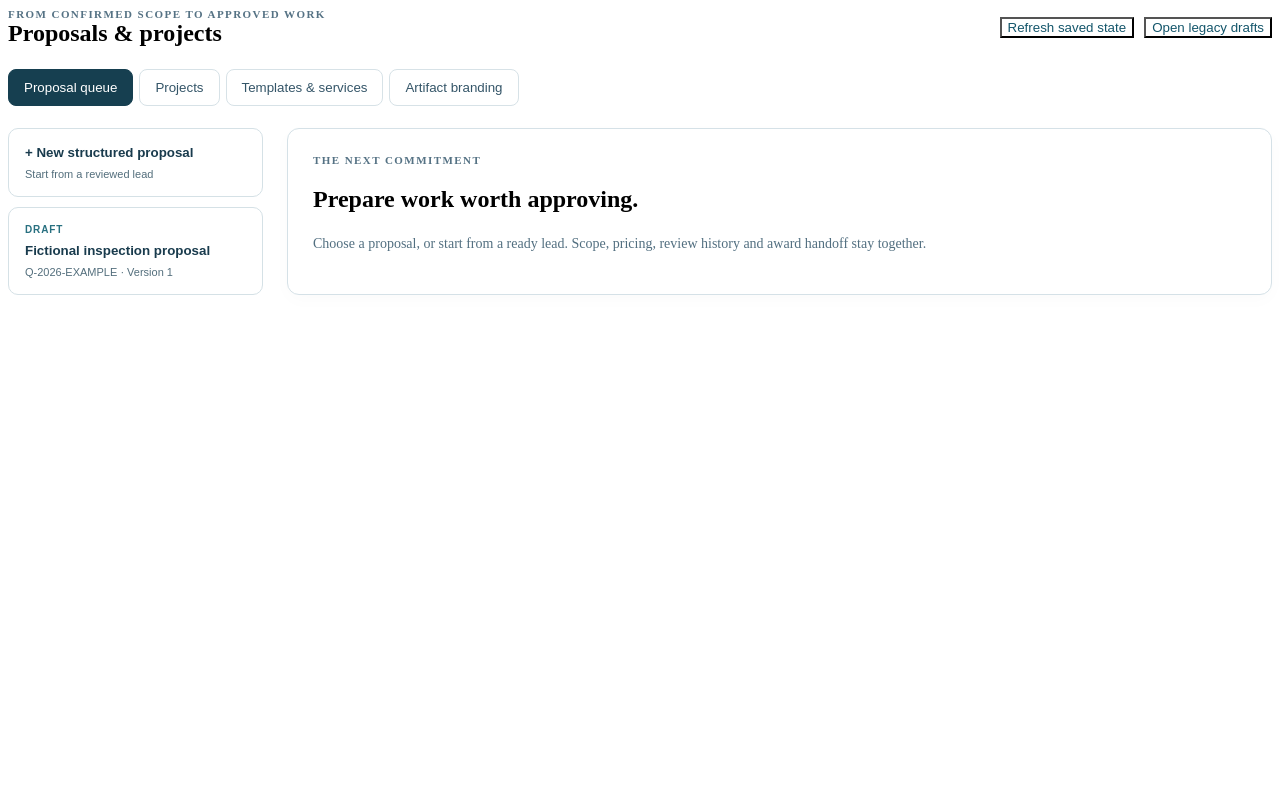
Test: structured commercial workspace › keeps draft preview clearly unapproved and offers no final PDF action
Check: the heading "Proposals & projects" is shown, box [8,20,222,46]
Check: the button "Refresh saved state" is enabled, box [1000,17,1134,38]
Click the button "Fictional inspection proposal".
click(136, 251)  # box [8,207,263,295]
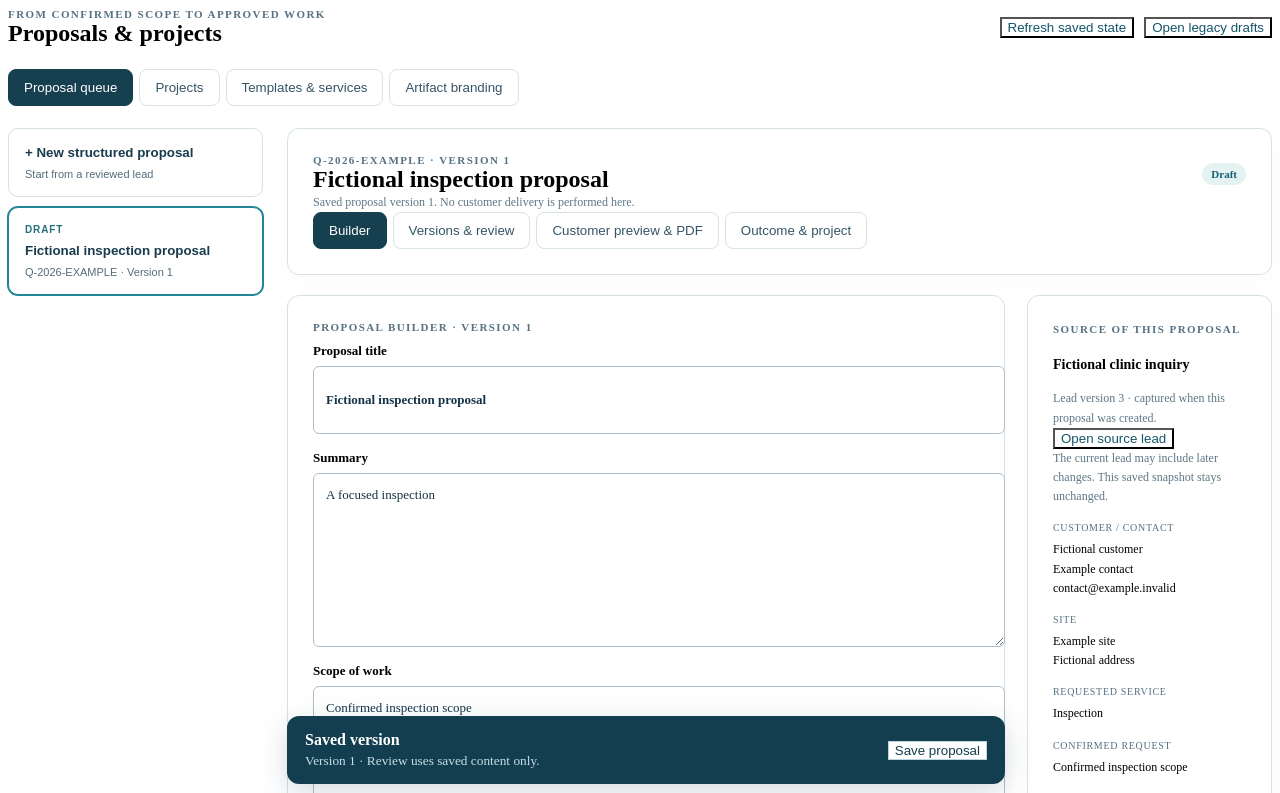
Check: the button "Refresh saved state" is enabled, box [1000,17,1134,38]
Check: the field labelled "Proposal title" is shown, box [313,366,1005,434]
Click the button "Customer preview & PDF".
click(628, 231)  # box [536,212,719,249]
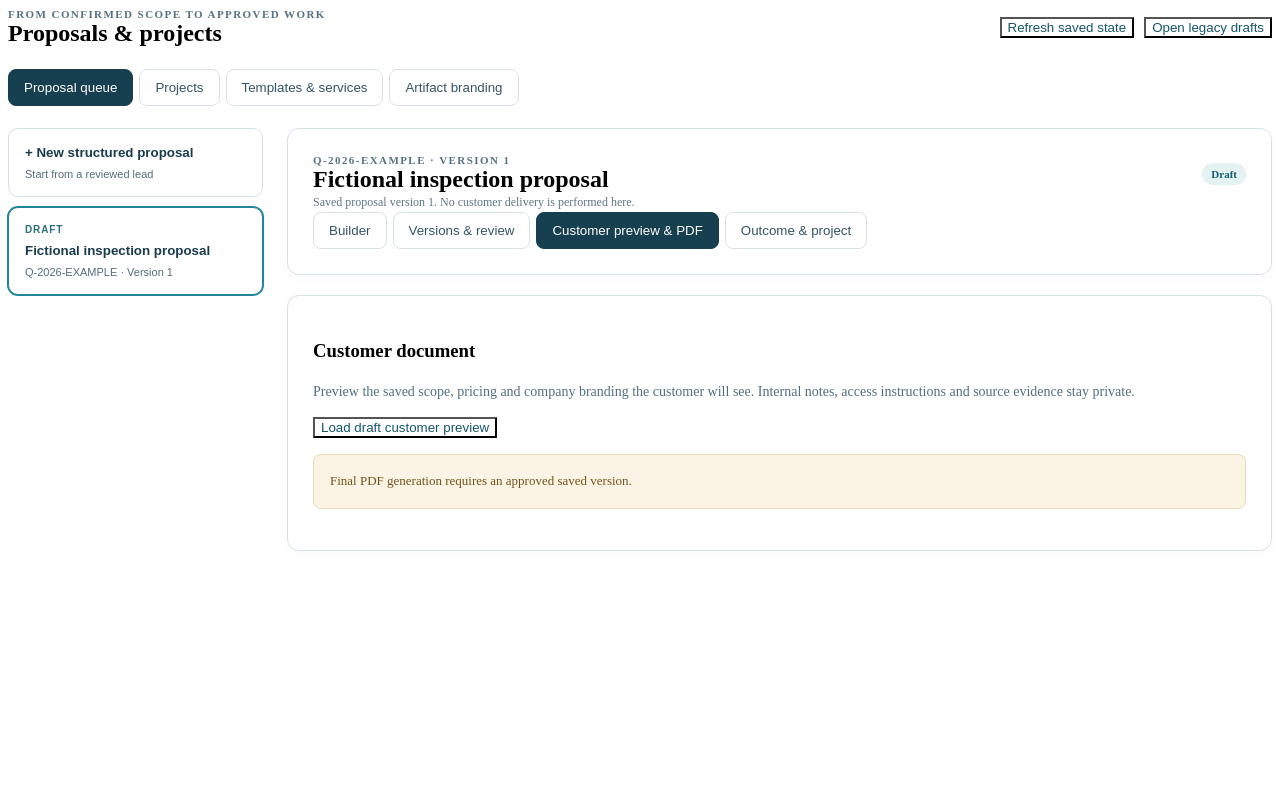
Click the button "Load draft customer preview".
click(405, 428)  # box [313,417,497,438]
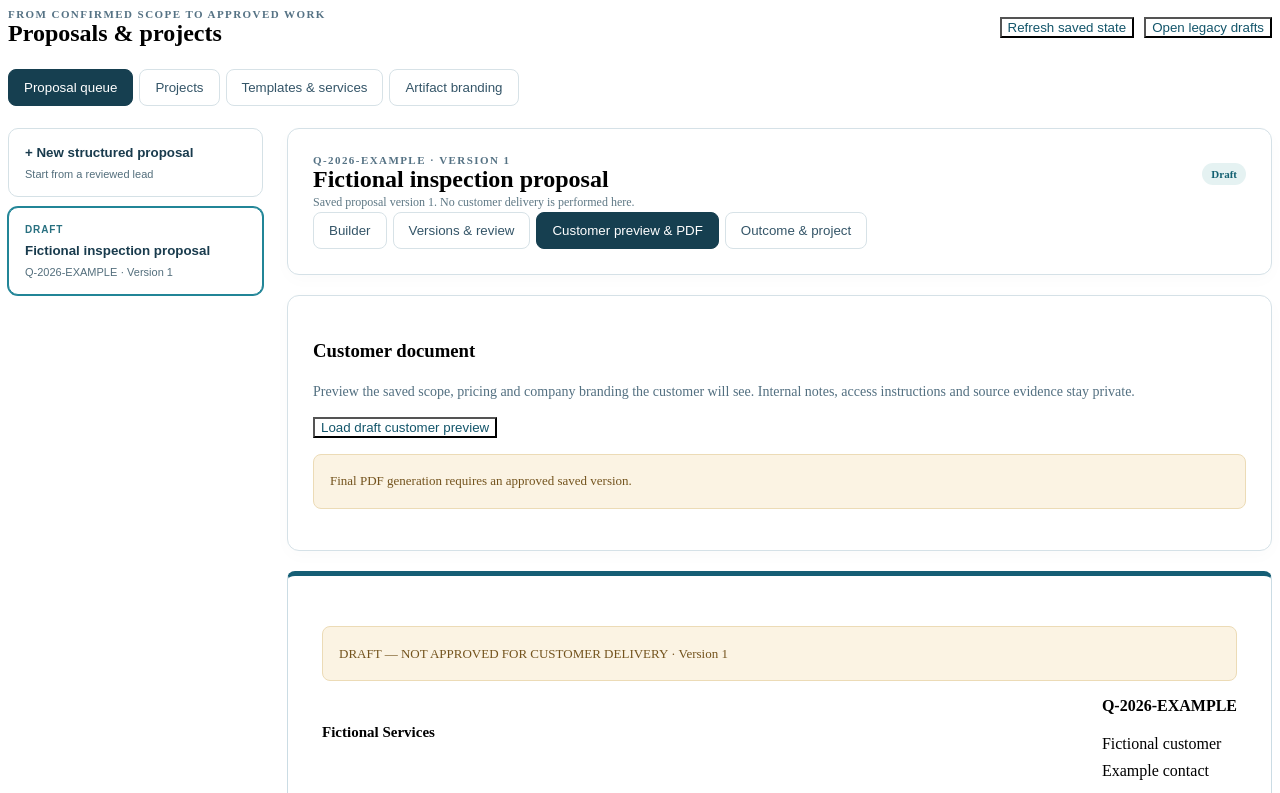
Check: the text "DRAFT — NOT APPROVED FOR CUSTOMER DELIVERY · Version 1" is shown, box [322,626,1237,681]
